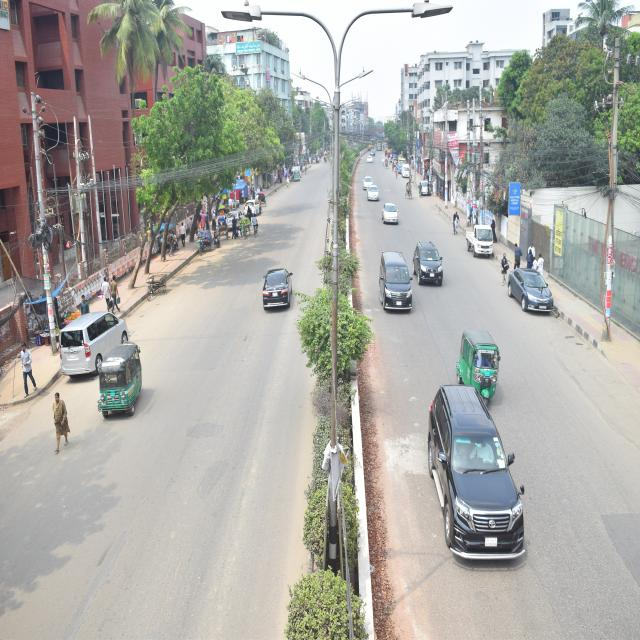car: (414, 384, 530, 563), (55, 307, 134, 379), (502, 265, 558, 321), (260, 267, 298, 318), (414, 236, 448, 293), (381, 200, 404, 230), (240, 194, 264, 220), (359, 173, 376, 194), (418, 178, 433, 199), (368, 184, 382, 205)
microbus: (379, 252, 417, 319)
pickup-van: (465, 220, 497, 261)
